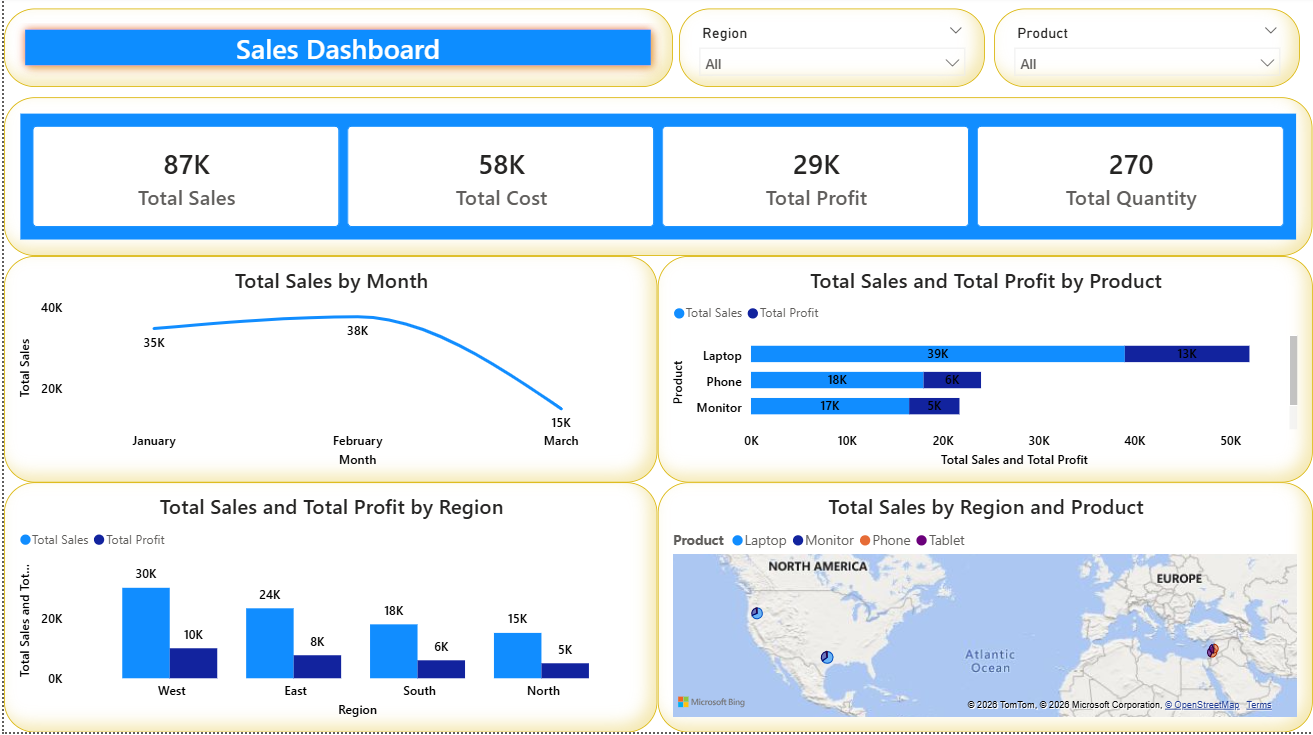

Layout of this report page (visuals, bound fields, positions):
{"tool":"powerbi","page":{"name":"Sales_Dashboard","canvas":[1280,720],"ordinal":0},"visuals":[{"type":"shape","box":[0,12.2,654.2,77],"z":0},{"type":"cardVisual","fields":{"Data":["Dax_Table (2).Total Sales","Dax_Table (2).Total Cost ","Dax_Table (2).Total Profit","Dax_Table (2).Total Quantity"]},"box":[0,99,1280.3,155.3],"z":1000},{"type":"lineChart","fields":{"Category":["Sales_Data.Date.Variation.Date Hierarchy.Month"],"Y":["Dax_Table (2).Total Sales"]},"box":[0,254.3,639.5,221.3],"z":2000},{"type":"clusteredColumnChart","fields":{"Y":["Dax_Table (2).Total Sales","Dax_Table (2).Total Profit"],"Category":["Sales_Data.Region"]},"box":[0,475.7,639.5,244.6],"z":3000},{"type":"barChart","fields":{"Category":["Sales_Data.Product"],"Y":["Dax_Table (2).Total Sales","Dax_Table (2).Total Profit"]},"box":[639.5,254.3,640.8,221.3],"z":4000},{"type":"map","fields":{"Category":["Sales_Data.Region"],"Size":["Dax_Table (2).Total Sales"],"Series":["Sales_Data.Product"]},"box":[639.5,475.7,640.8,244.6],"z":5000},{"type":"slicer","fields":{"Values":["Sales_Data.Region"]},"box":[660.3,12.2,299.6,77],"z":5001},{"type":"slicer","fields":{"Values":["Sales_Data.Product"]},"box":[968.5,12.2,299.6,77],"z":5002}]}

Visuals, with their boxes in screenshot pixels (x1, y1, x2, y2), scaled from the page's 1280x720 canvas onto the 1313x735 screenshot:
shape: region(0, 12, 671, 91)
cardVisual - Dax_Table (2).Total Sales x Dax_Table (2).Total Cost : region(0, 101, 1312, 260)
lineChart - Sales_Data.Date.Variation.Date Hierarchy.Month x Dax_Table (2).Total Sales: region(0, 260, 656, 486)
clusteredColumnChart - Dax_Table (2).Total Sales x Dax_Table (2).Total Profit: region(0, 486, 656, 734)
barChart - Sales_Data.Product x Dax_Table (2).Total Sales: region(656, 260, 1312, 486)
map - Sales_Data.Region x Dax_Table (2).Total Sales: region(656, 486, 1312, 734)
slicer - Sales_Data.Region: region(677, 12, 985, 91)
slicer - Sales_Data.Product: region(993, 12, 1301, 91)
